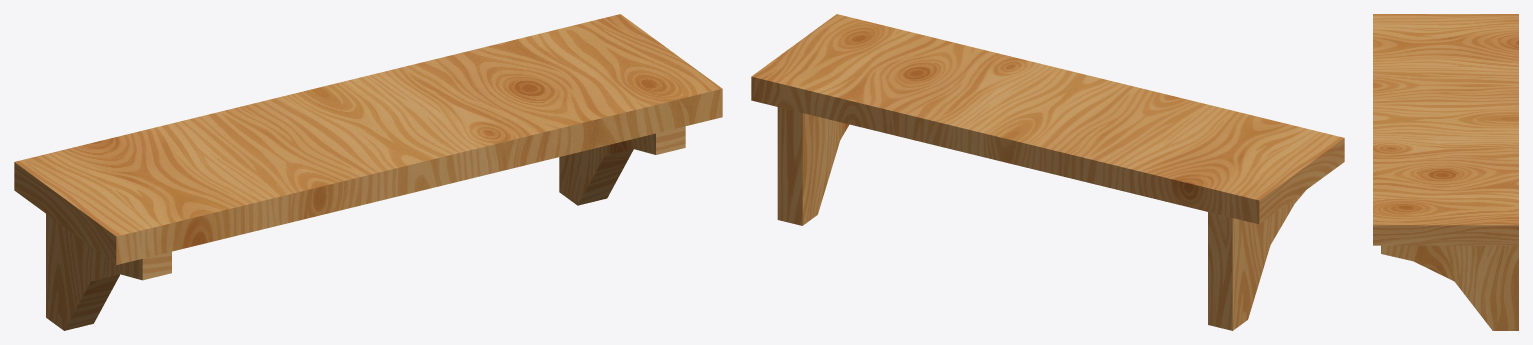
Rendered from Shelf_Hang.fbx.
The picture shows the model from 3 angles, left to right: view 1: azimuth 30°, elevation 25°; view 2: azimuth 150°, elevation 25°; view 3: azimuth 270°, elevation 25°; orthographic projection. The views are drawn at different scales.
Visible parts, largest first — view 1: Shelf_Hang; view 2: Shelf_Hang; view 3: Shelf_Hang.
Part boxes in pixels (<box>): Shelf_Hang: <box>14,14,722,330</box>; Shelf_Hang: <box>751,14,1344,330</box>; Shelf_Hang: <box>1373,14,1518,330</box>.
Bounding box in the file's own units: 113 × 29.21 × 33.08.
